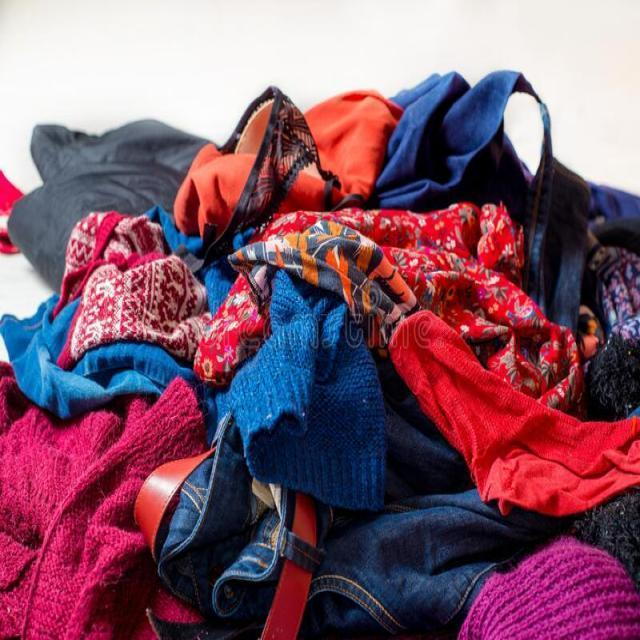clothes: (71, 209, 518, 572)
